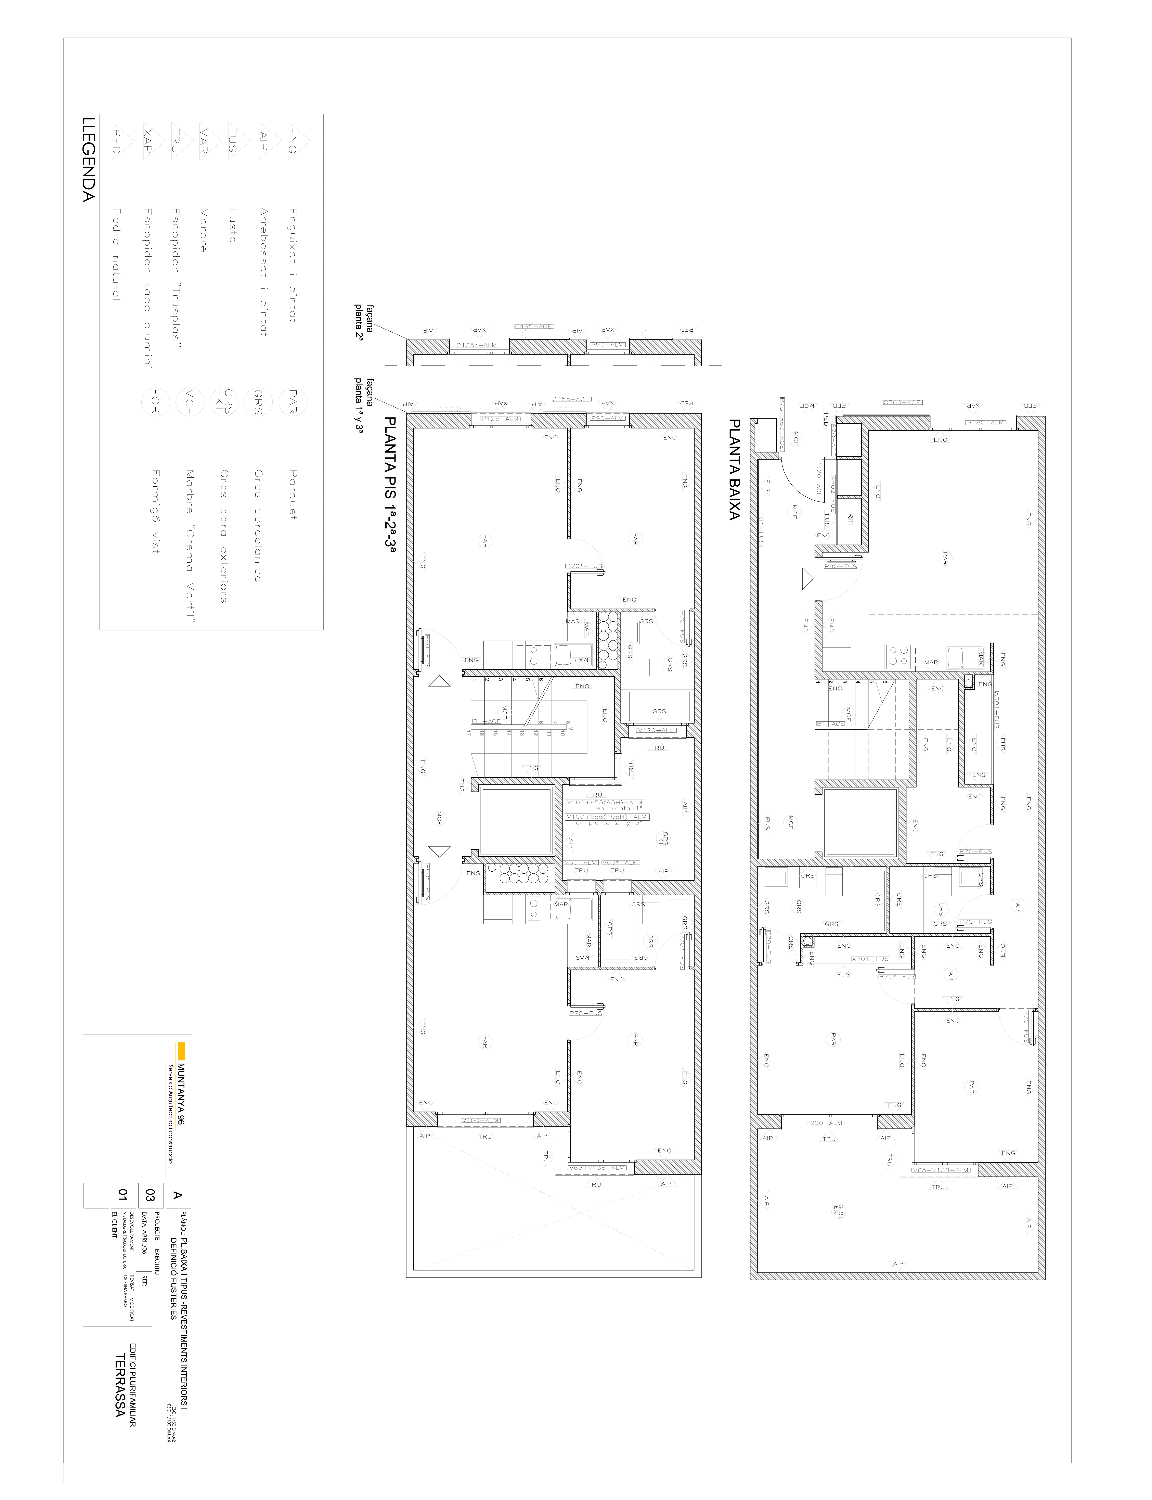door: (778, 457, 826, 504)
